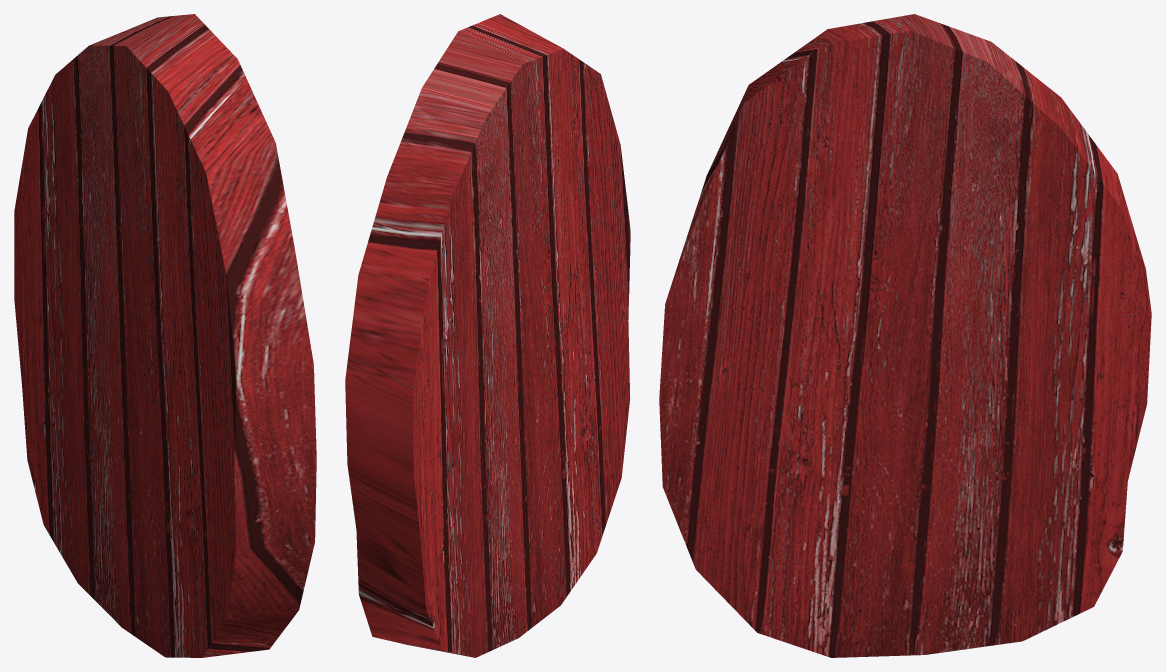
Rendered from puertaFachadaPicapiedras.obj.
The picture shows the model from 3 angles, left to right: view 1: azimuth 30°, elevation 25°; view 2: azimuth 150°, elevation 25°; view 3: azimuth 270°, elevation 25°; orthographic projection. The views are drawn at different scales.
Parts seen in each view (by area): view 1: pasted__pasted__pasted__pCylinder3 pasted__pasted__group10 paste; view 2: pasted__pasted__pasted__pCylinder3 pasted__pasted__group10 paste; view 3: pasted__pasted__pasted__pCylinder3 pasted__pasted__group10 paste.
Boxes of the visible parts, <box> form: pasted__pasted__pasted__pCylinder3 pasted__pasted__group10 paste: <box>14,14,316,657</box>; pasted__pasted__pasted__pCylinder3 pasted__pasted__group10 paste: <box>345,14,630,657</box>; pasted__pasted__pasted__pCylinder3 pasted__pasted__group10 paste: <box>659,14,1151,657</box>.
Bounding box in the file's own units: 14.74 × 127 × 90.06.
1 material, 1 textured.
